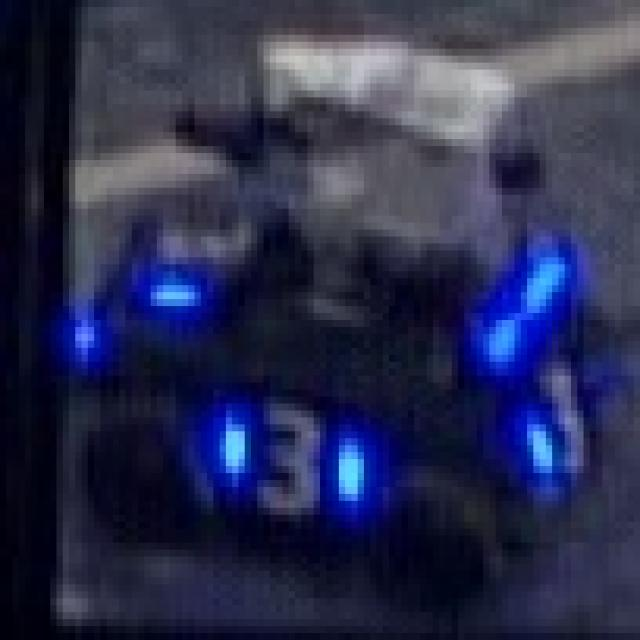B3: (195, 389, 382, 522), (502, 341, 609, 501)
